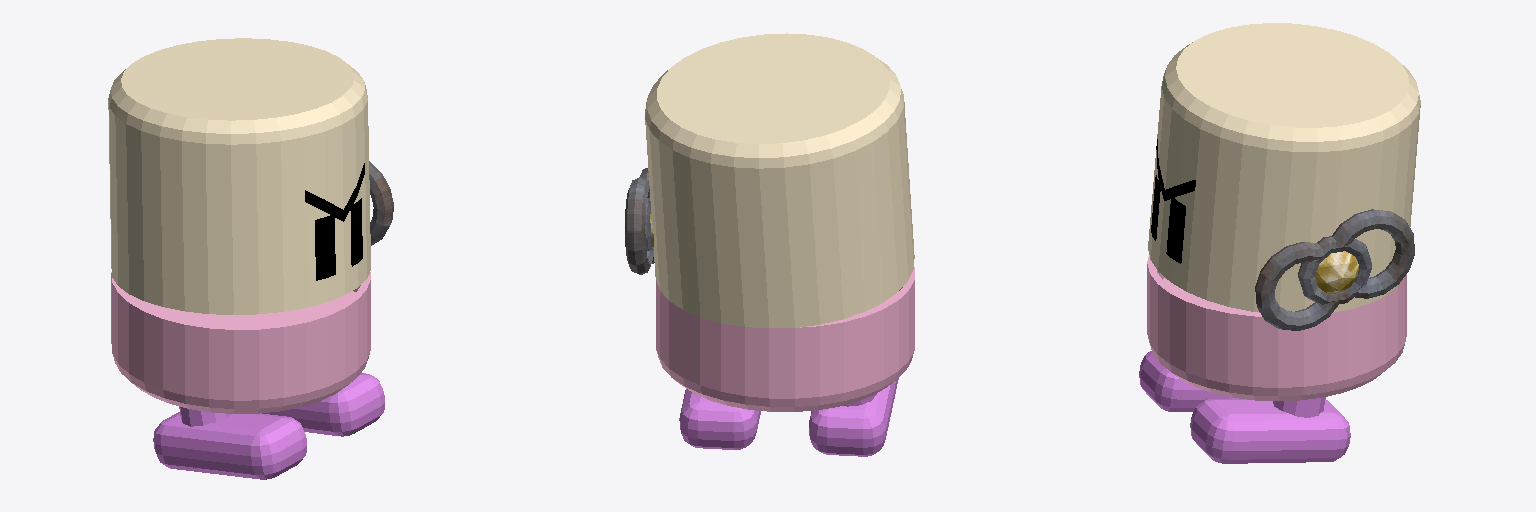
The picture shows the model from 3 angles: view 1: azimuth 30°, elevation 25°; view 2: azimuth 150°, elevation 25°; view 3: azimuth 270°, elevation 25°; orthographic projection.
Parts seen in each view (by area): view 1: Head, Jaw, RightLeg, LeftLeg, WindupKey; view 2: Head, Jaw, RightLeg, LeftLeg, WindupKey; view 3: Head, Jaw, WindupKey, LeftLeg, RightLeg.
Boxes of the visible parts, x1=… form: Head: x1=108, y1=38, x2=370, y2=314; Jaw: x1=111, y1=272, x2=370, y2=413; RightLeg: x1=153, y1=407, x2=306, y2=479; LeftLeg: x1=262, y1=373, x2=384, y2=436; WindupKey: x1=369, y1=161, x2=393, y2=245; Head: x1=645, y1=33, x2=914, y2=328; Jaw: x1=656, y1=267, x2=914, y2=411; RightLeg: x1=809, y1=378, x2=898, y2=456; LeftLeg: x1=679, y1=389, x2=760, y2=449; WindupKey: x1=625, y1=168, x2=654, y2=274; Head: x1=1148, y1=23, x2=1420, y2=312; Jaw: x1=1147, y1=255, x2=1406, y2=400; WindupKey: x1=1255, y1=209, x2=1414, y2=330; LeftLeg: x1=1190, y1=397, x2=1350, y2=463; RightLeg: x1=1139, y1=351, x2=1231, y2=411.
Bounding box in the file's own units: 114 × 155 × 108.
6 materials, 2 textured.